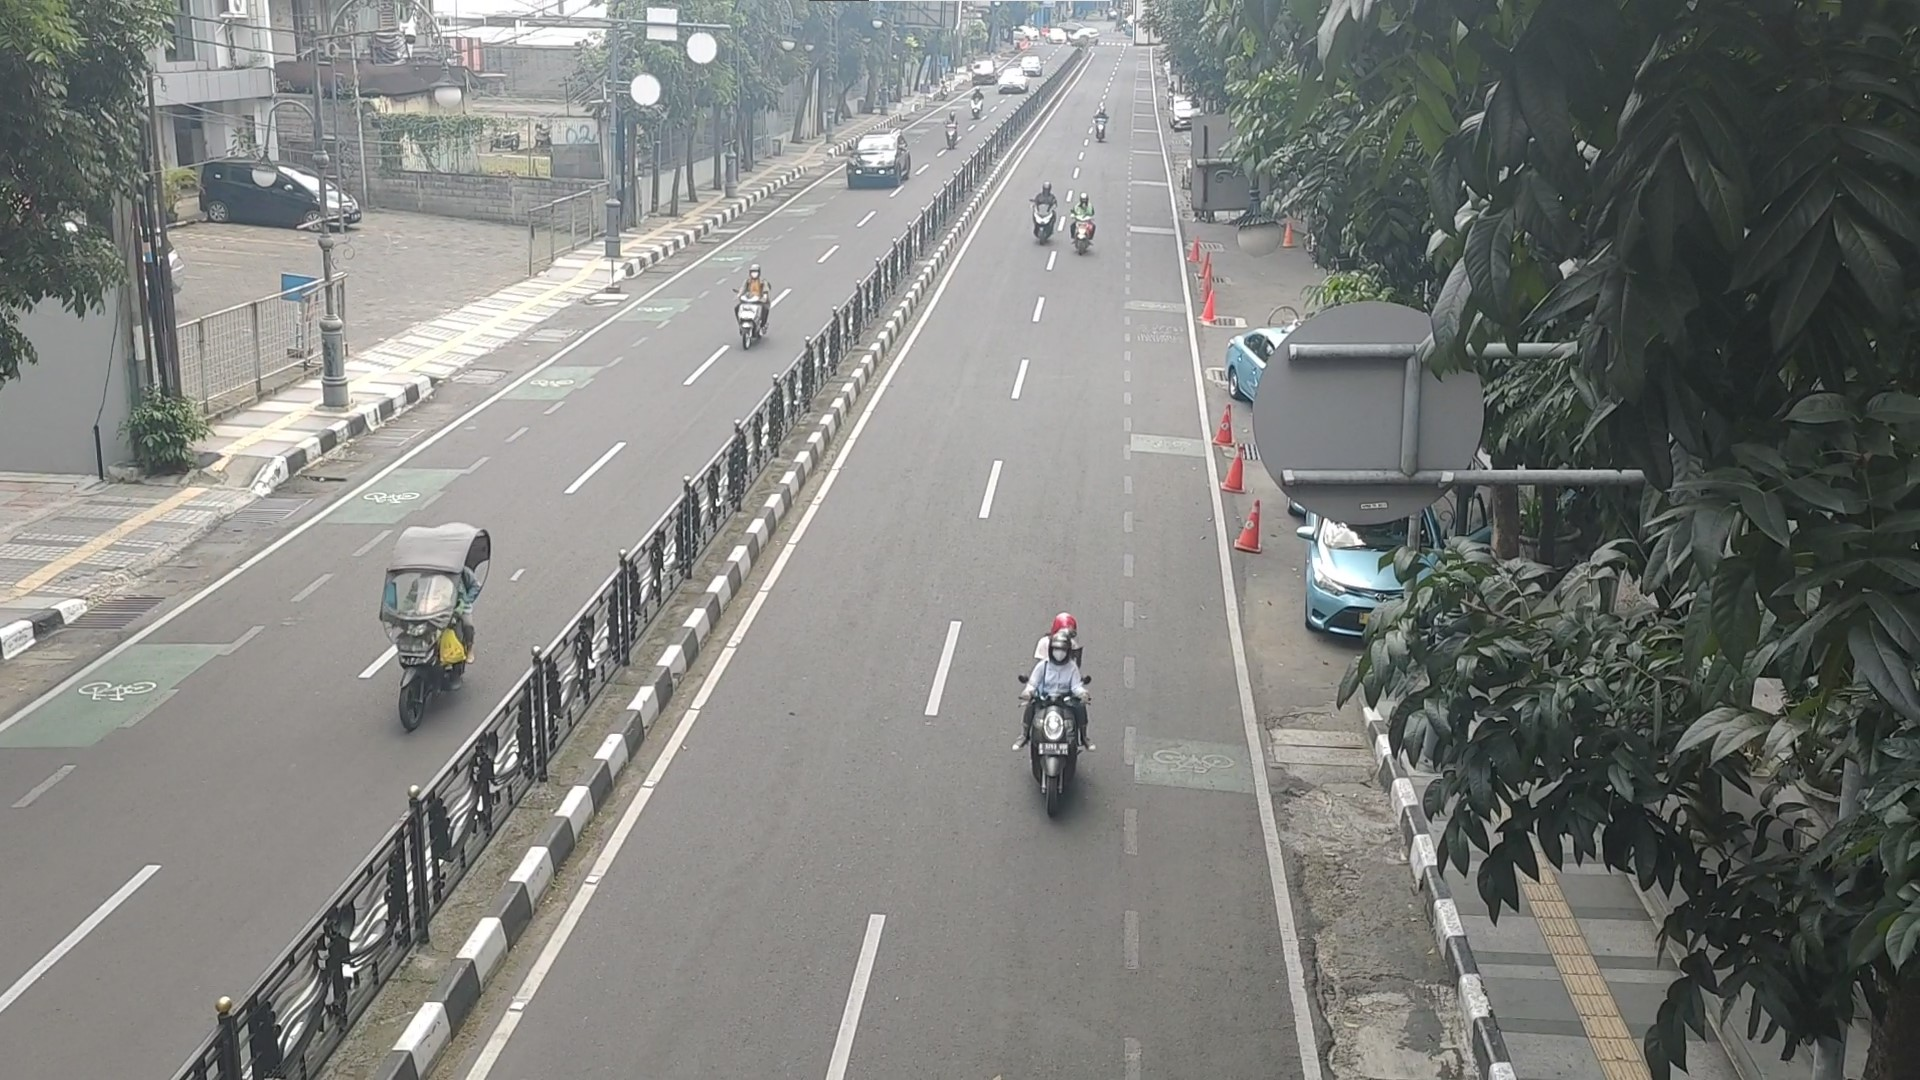mobil: (841, 128, 910, 195)
motor: (371, 518, 495, 735), (1007, 611, 1102, 825), (731, 261, 777, 351), (1029, 178, 1062, 249), (1068, 191, 1100, 262), (1087, 95, 1116, 146), (938, 108, 963, 152), (963, 83, 988, 127)
